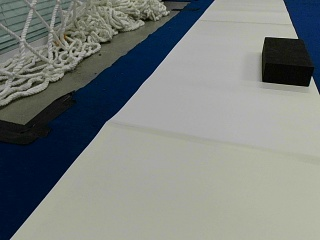block: (261, 36, 313, 87)
